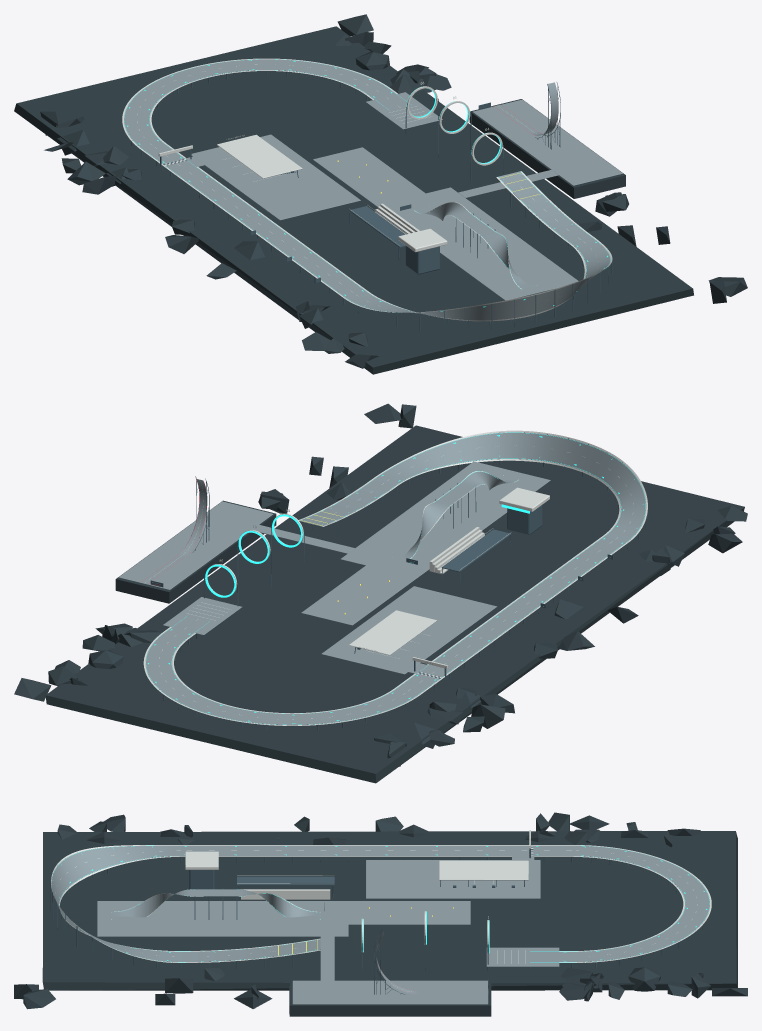
Rendered from VectorCoastal_Course_LOD1_VisualOnly.glb.
The picture shows the model from 3 angles, top to bottom: view 1: azimuth 30°, elevation 25°; view 2: azimuth 150°, elevation 25°; view 3: azimuth 270°, elevation 25°; orthographic projection. The views are drawn at different scales.
Parts seen in each view (by area): view 1: VIS_LOD1_Roadster_Basalt, VIS_LOD1_Roadster_Deck_Ceramic, VIS_LOD1_Roadster_Porcelain, VIS_LOD1_Roadster_Structure, VIS_LOD1_Roadster_Guidance_Cyan; view 2: VIS_LOD1_Roadster_Basalt, VIS_LOD1_Roadster_Deck_Ceramic, VIS_LOD1_Roadster_Porcelain, VIS_LOD1_Roadster_Structure, VIS_LOD1_Roadster_Guidance_Cyan; view 3: VIS_LOD1_Roadster_Basalt, VIS_LOD1_Roadster_Deck_Ceramic, VIS_LOD1_Roadster_Porcelain, VIS_LOD1_Roadster_Structure, VIS_LOD1_Roadster_Guidance_Cyan.
Part boxes in pixels (x1,y1,x2,y2): VIS_LOD1_Roadster_Basalt: [14, 14, 747, 374]; VIS_LOD1_Roadster_Deck_Ceramic: [124, 59, 622, 320]; VIS_LOD1_Roadster_Porcelain: [122, 58, 612, 321]; VIS_LOD1_Roadster_Structure: [122, 71, 612, 332]; VIS_LOD1_Roadster_Guidance_Cyan: [124, 59, 610, 311]; VIS_LOD1_Roadster_Basalt: [14, 403, 747, 783]; VIS_LOD1_Roadster_Deck_Ceramic: [118, 432, 646, 724]; VIS_LOD1_Roadster_Porcelain: [143, 430, 647, 725]; VIS_LOD1_Roadster_Structure: [144, 432, 647, 731]; VIS_LOD1_Roadster_Guidance_Cyan: [146, 432, 645, 724]; VIS_LOD1_Roadster_Basalt: [14, 812, 747, 1016]; VIS_LOD1_Roadster_Deck_Ceramic: [51, 845, 709, 1004]; VIS_LOD1_Roadster_Porcelain: [51, 830, 711, 991]; VIS_LOD1_Roadster_Structure: [50, 838, 711, 994]; VIS_LOD1_Roadster_Guidance_Cyan: [51, 845, 709, 962].
Size of what is drawn, in the model's own units: 333 by 63.8 by 526.
